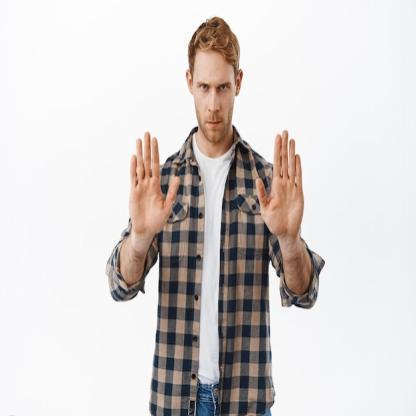stop: (254, 123, 309, 249), (128, 127, 180, 247)
